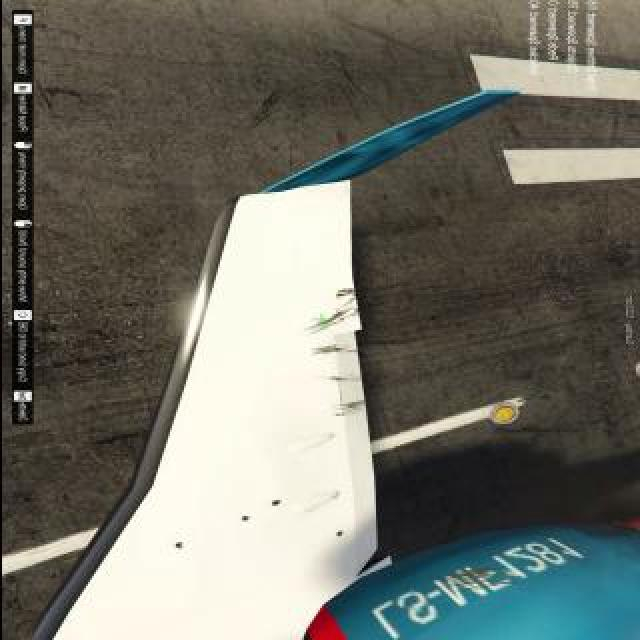crack: (169, 539, 185, 551), (266, 501, 286, 509), (331, 531, 347, 539), (238, 516, 250, 524)
dent: (312, 346, 343, 356), (336, 401, 361, 410), (336, 290, 353, 297)
